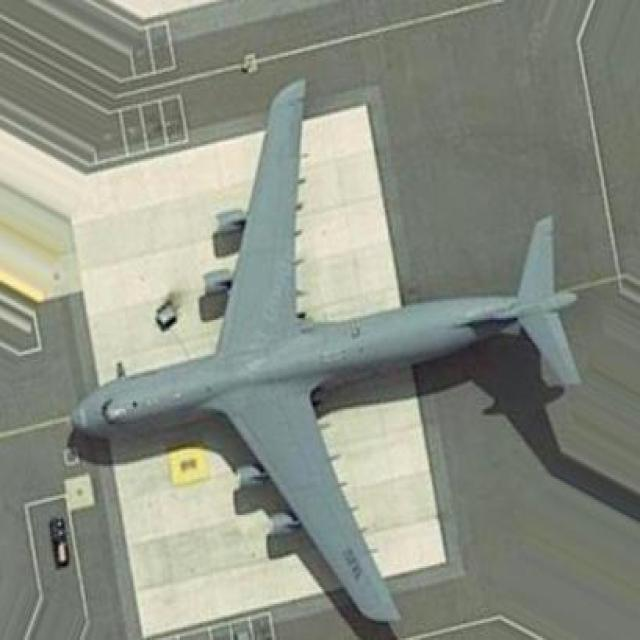C-5_TopDown: (64, 76, 588, 638)
